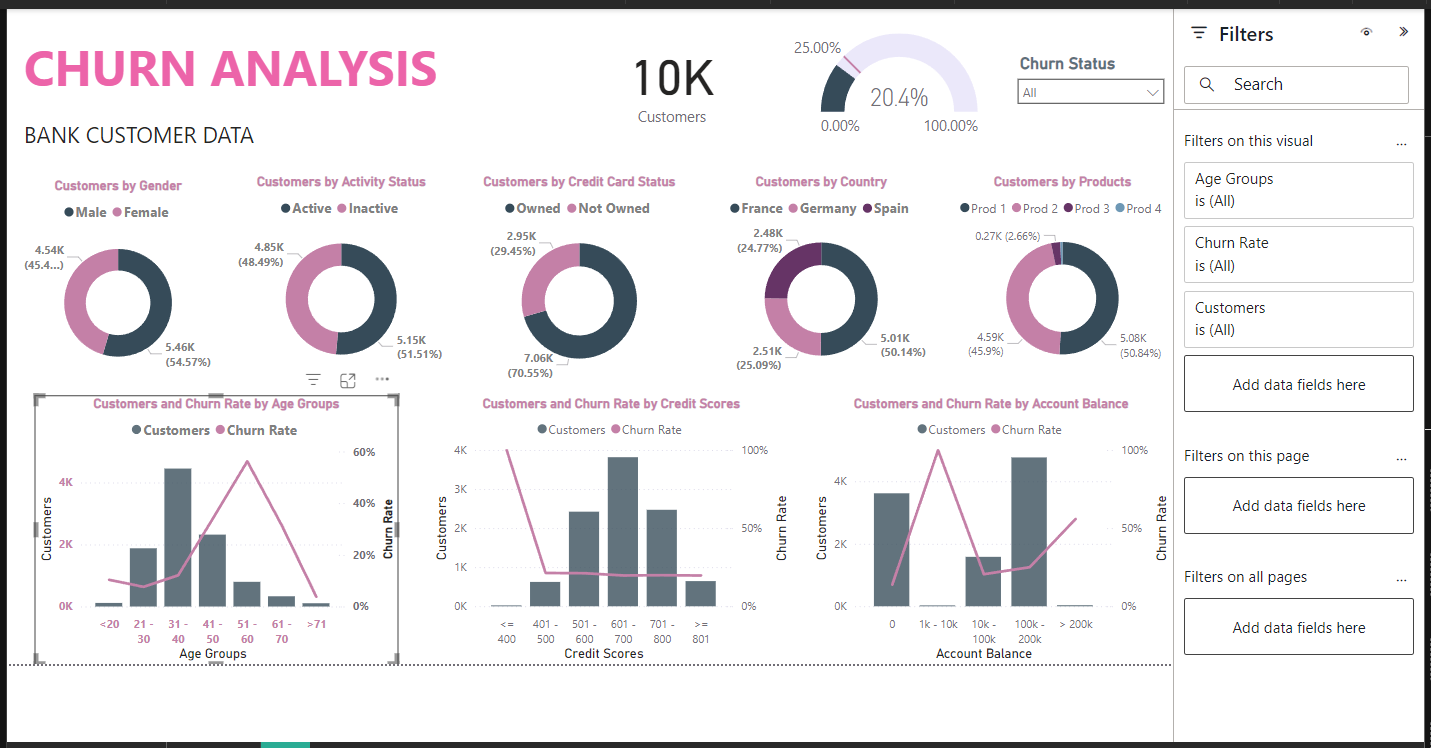

Layout of this report page (visuals, bound fields, positions):
{"tool":"powerbi","page":{"name":"Page 1","canvas":[1280,720],"ordinal":0},"visuals":[{"type":"card","fields":{"Values":["Customer Data.Customers"]},"box":[639.5,9.6,181.1,140],"z":0},{"type":"donutChart","title":"Customers by Gender","fields":{"Y":["CountNonNull(Customer Data.Customer ID)"],"Category":["Customer Data.Gender"]},"box":[13.7,185.2,216.8,226.4],"z":1000},{"type":"donutChart","title":"Customers by Activity Status","fields":{"Y":["CountNonNull(Customer Data.Customer ID)"],"Category":["Customer Data.Activity Status"]},"box":[248.4,181.1,237.4,226.4],"z":2000},{"type":"donutChart","title":"Customers by Credit Card Status","fields":{"Y":["CountNonNull(Customer Data.Customer ID)"],"Category":["Customer Data.Credit Card Status"]},"box":[500.9,181.1,255.2,230.5],"z":3000},{"type":"donutChart","title":"Customers by Country","fields":{"Y":["CountNonNull(Customer Data.Customer ID)"],"Category":["Customer Data.Country"]},"box":[767.1,181.1,253.9,226.4],"z":4000},{"type":"donutChart","title":"Customers by Products","fields":{"Y":["CountNonNull(Customer Data.Customer ID)"],"Category":["Customer Data.Products"]},"box":[1037.4,181.1,242.9,226.4],"z":5000},{"type":"lineClusteredColumnComboChart","fields":{"Category":["Age Groups.Age Groups"],"Y":["Customer Data.Customers"],"Y2":["Customer Data.Churn Rate"]},"box":[30.2,424,399.3,296.4],"z":6000},{"type":"lineClusteredColumnComboChart","fields":{"Y":["Customer Data.Customers"],"Y2":["Customer Data.Churn Rate"],"Category":["Credit Score Groups.Credit Scores"]},"box":[463.8,424,399.3,296.4],"z":7000},{"type":"lineClusteredColumnComboChart","fields":{"Y":["Customer Data.Customers"],"Y2":["Customer Data.Churn Rate"],"Category":["Account Balance Groups.Account Balance"]},"box":[881,424,399.3,296.4],"z":8000},{"type":"slicer","fields":{"Values":["Customer Data.Churn Status"]},"box":[1099.1,43.9,181.1,83.7],"z":9000},{"type":"gauge","fields":{"Y":["Customer Data.Churn Rate"],"MinValue":["Min(Customer Data.Min Churn Rate)"],"MaxValue":["Max(Customer Data.Max Churn Rate)"],"TargetValue":["Min(Customer Data.Target Churn Rate)"]},"box":[845.3,22,236,127.6],"z":10000},{"type":"textbox","box":[13.7,22,502.2,90.6],"z":11000},{"type":"textbox","box":[13.7,116.6,299.1,49.4],"z":12000}]}

Visuals, with their boxes on the page's 1280x720 design canvas (x1, y1, x2, y2). These are canvas units, not pixel positions in the 1431x748 screenshot, which may show the page scaled, cropped or inside an application window:
card - Customer Data.Customers: crop(640, 10, 821, 150)
"Customers by Gender" donutChart: crop(14, 185, 230, 412)
"Customers by Activity Status" donutChart: crop(248, 181, 486, 408)
"Customers by Credit Card Status" donutChart: crop(501, 181, 756, 412)
"Customers by Country" donutChart: crop(767, 181, 1021, 408)
"Customers by Products" donutChart: crop(1037, 181, 1280, 408)
lineClusteredColumnComboChart - Age Groups.Age Groups x Customer Data.Customers: crop(30, 424, 430, 720)
lineClusteredColumnComboChart - Customer Data.Customers x Customer Data.Churn Rate: crop(464, 424, 863, 720)
lineClusteredColumnComboChart - Customer Data.Customers x Customer Data.Churn Rate: crop(881, 424, 1280, 720)
slicer - Customer Data.Churn Status: crop(1099, 44, 1280, 128)
gauge - Customer Data.Churn Rate x Min(Customer Data.Min Churn Rate): crop(845, 22, 1081, 150)
textbox: crop(14, 22, 516, 113)
textbox: crop(14, 117, 313, 166)
